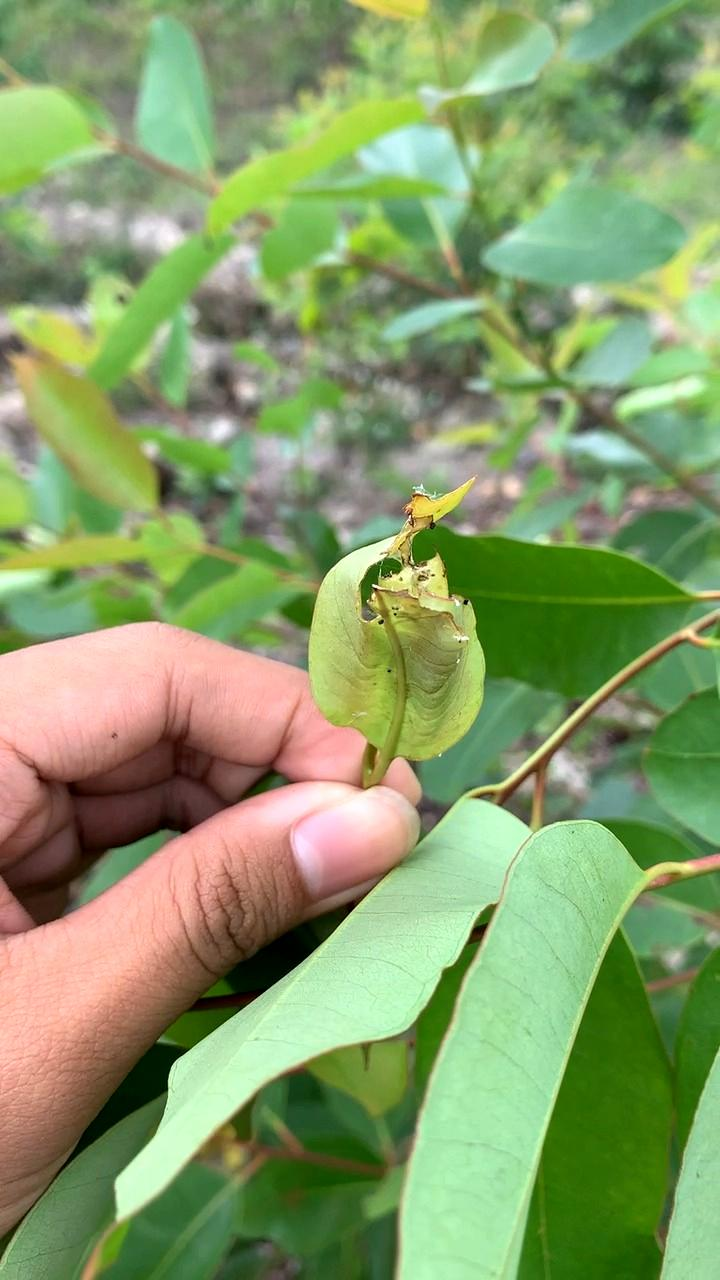Leaf Roller - Leaf: (285, 488, 499, 785)
